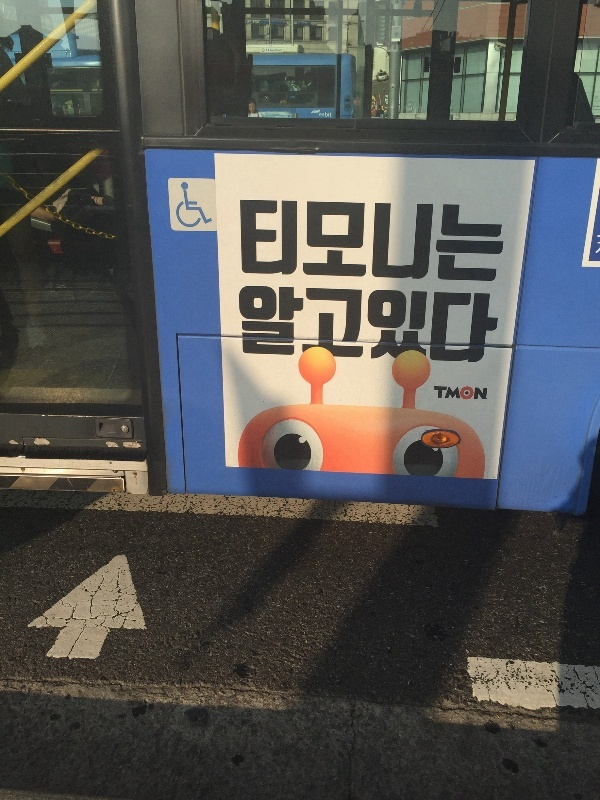text: (241, 196, 256, 284), (257, 196, 272, 284), (273, 196, 288, 284), (289, 196, 304, 284), (305, 196, 320, 284), (321, 196, 336, 284), (337, 196, 352, 284), (353, 196, 368, 284), (369, 196, 384, 284), (385, 196, 400, 284), (401, 196, 416, 284), (417, 196, 432, 284), (433, 196, 448, 284), (449, 196, 464, 284), (465, 196, 480, 284), (481, 196, 496, 284), (241, 283, 256, 367), (257, 283, 272, 367), (273, 283, 288, 367), (289, 283, 304, 367), (305, 283, 320, 367), (321, 283, 336, 367), (337, 283, 352, 367), (353, 283, 368, 367), (369, 283, 384, 367), (385, 283, 400, 367), (401, 283, 416, 367), (417, 283, 432, 367), (433, 283, 448, 367), (449, 283, 464, 367), (465, 283, 480, 367), (481, 283, 496, 367), (497, 196, 510, 284), (497, 283, 503, 367), (449, 384, 464, 404), (465, 384, 480, 404), (434, 384, 448, 404), (238, 196, 240, 284), (238, 283, 240, 367), (481, 384, 489, 404)
